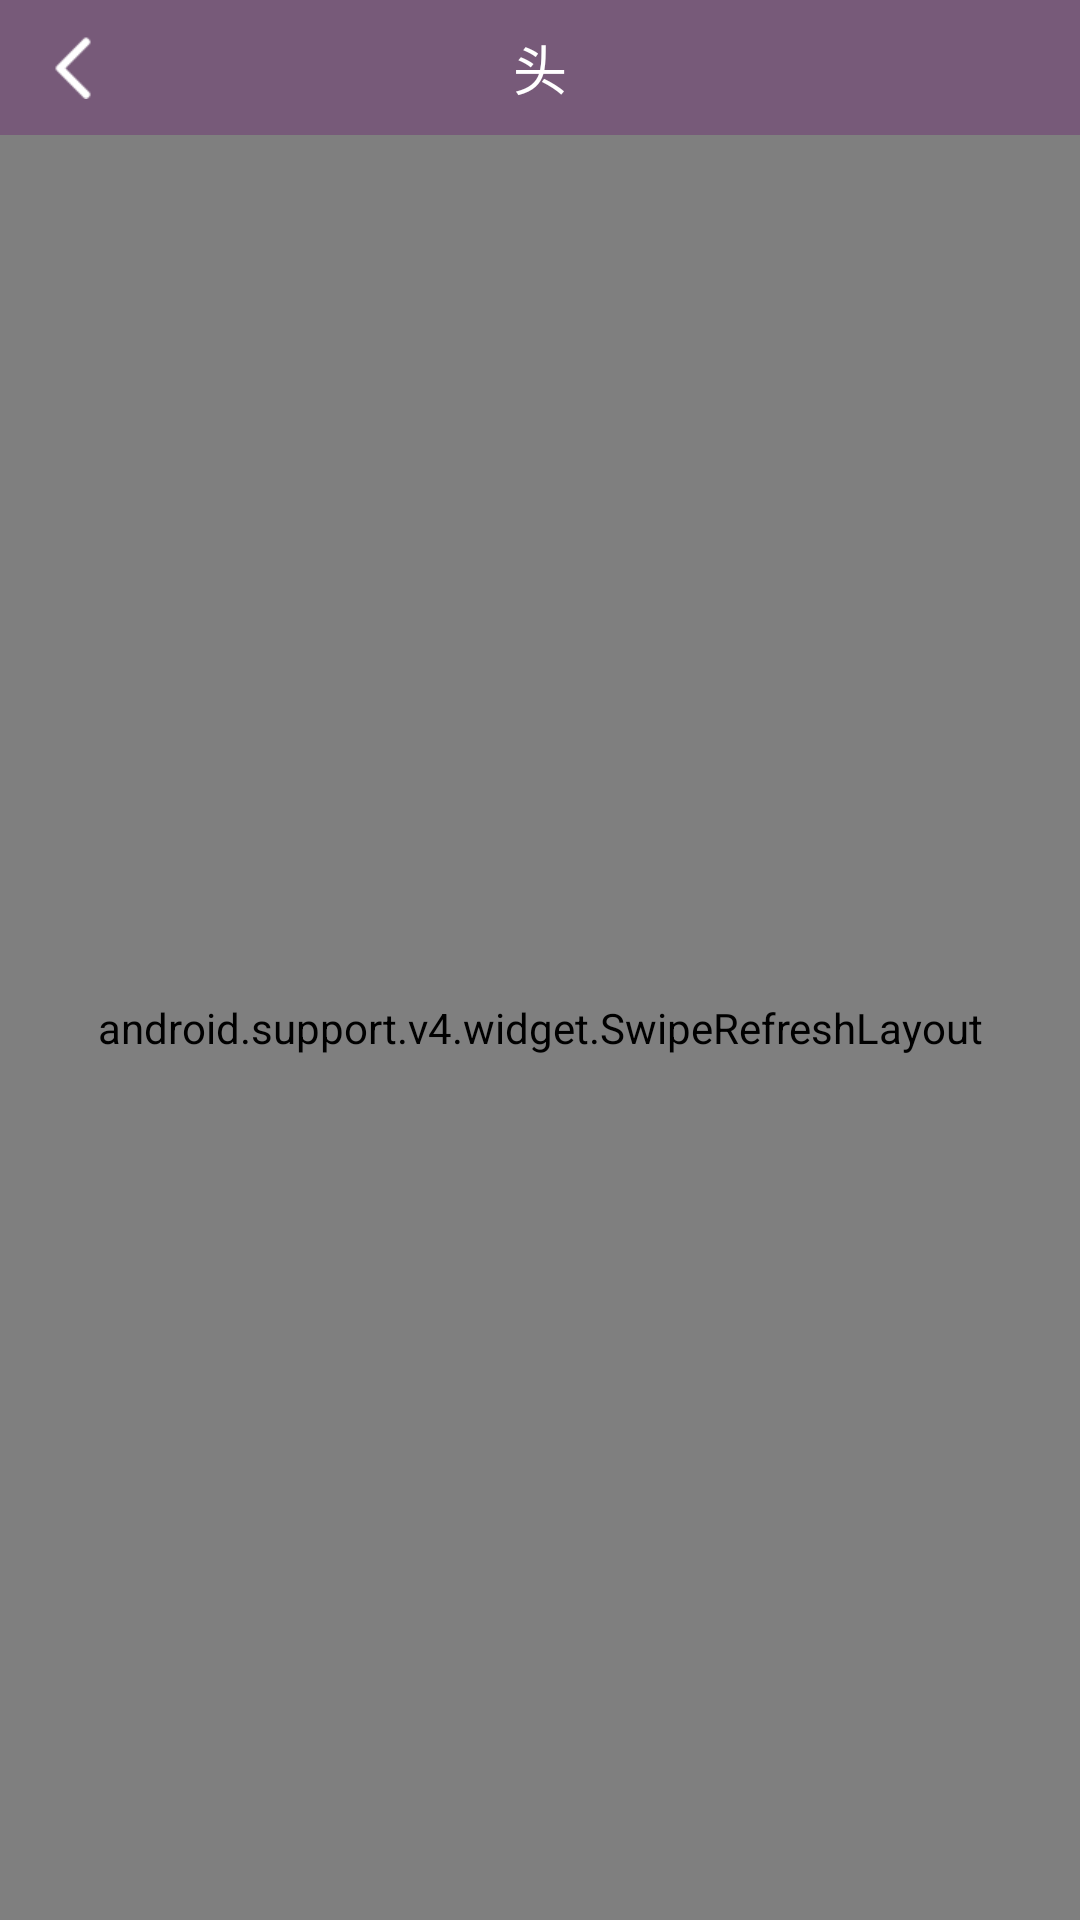

Where icons sit on this 1080px×1920px app screen, as (x1, y1, x2, y2):
arrow left: (55, 37, 91, 99)
